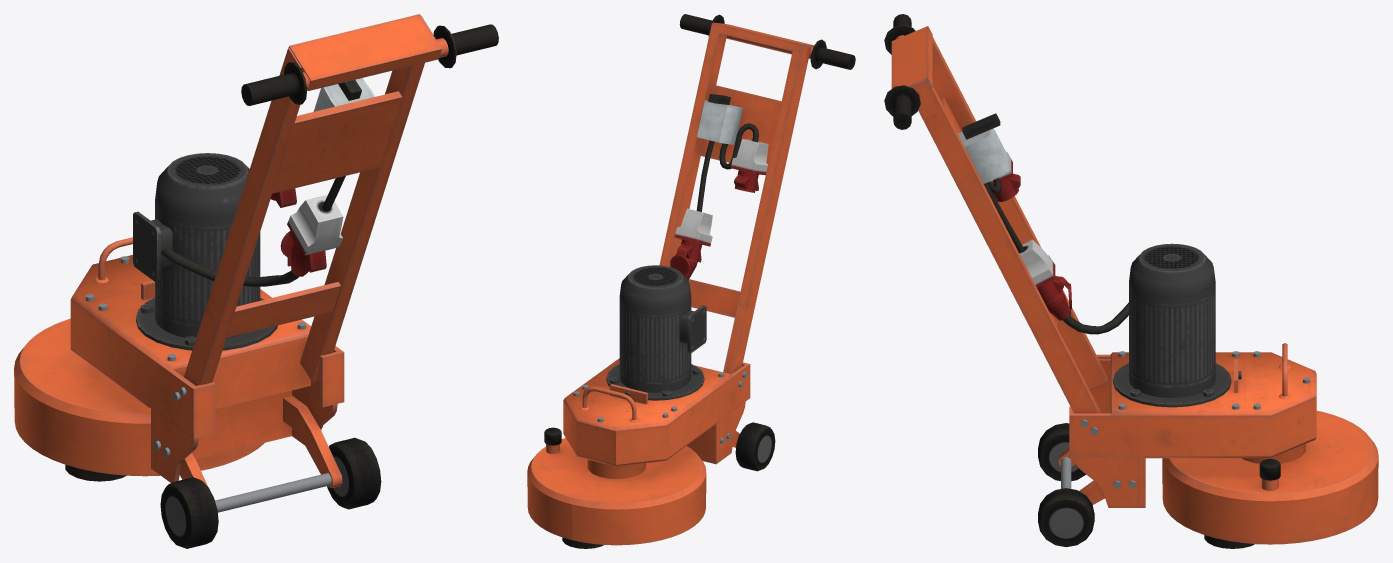
Rendered from SM_Props_Cement_Polisher.gltf.
3 views of the same model, side by side, from view 1: azimuth 30°, elevation 25°; view 2: azimuth 150°, elevation 25°; view 3: azimuth 270°, elevation 25° (orthographic). The views are drawn at different scales.
Visible parts, largest first — view 1: SM_Props_Cement_Polisher; view 2: SM_Props_Cement_Polisher; view 3: SM_Props_Cement_Polisher.
Boxes of the visible parts, x1=… form: SM_Props_Cement_Polisher: x1=14, y1=14, x2=498, y2=548; SM_Props_Cement_Polisher: x1=527, y1=14, x2=855, y2=548; SM_Props_Cement_Polisher: x1=884, y1=14, x2=1378, y2=548.
Bounding box in the file's own units: 0.555 × 1.2 × 1.17.
Materials: 1 (1 with a texture image).
